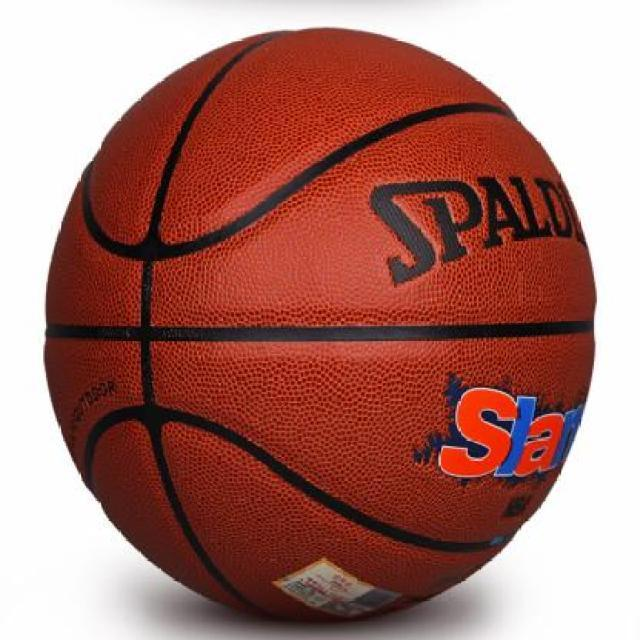basketball: (46, 26, 598, 626)
